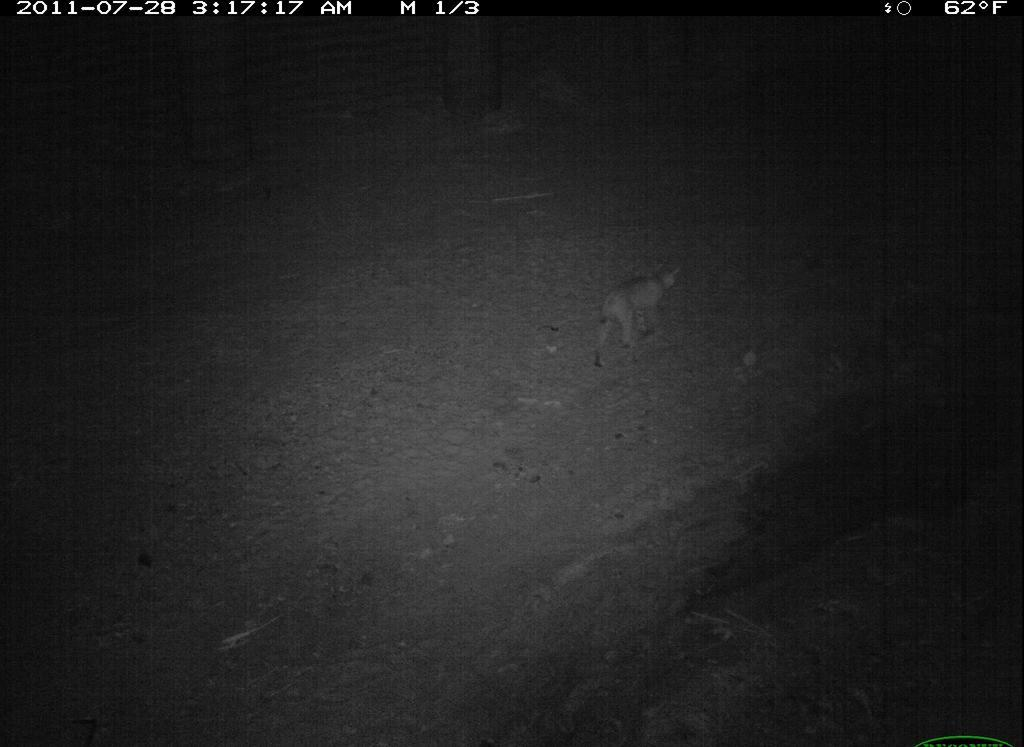bobcat: (574, 262, 703, 374)
